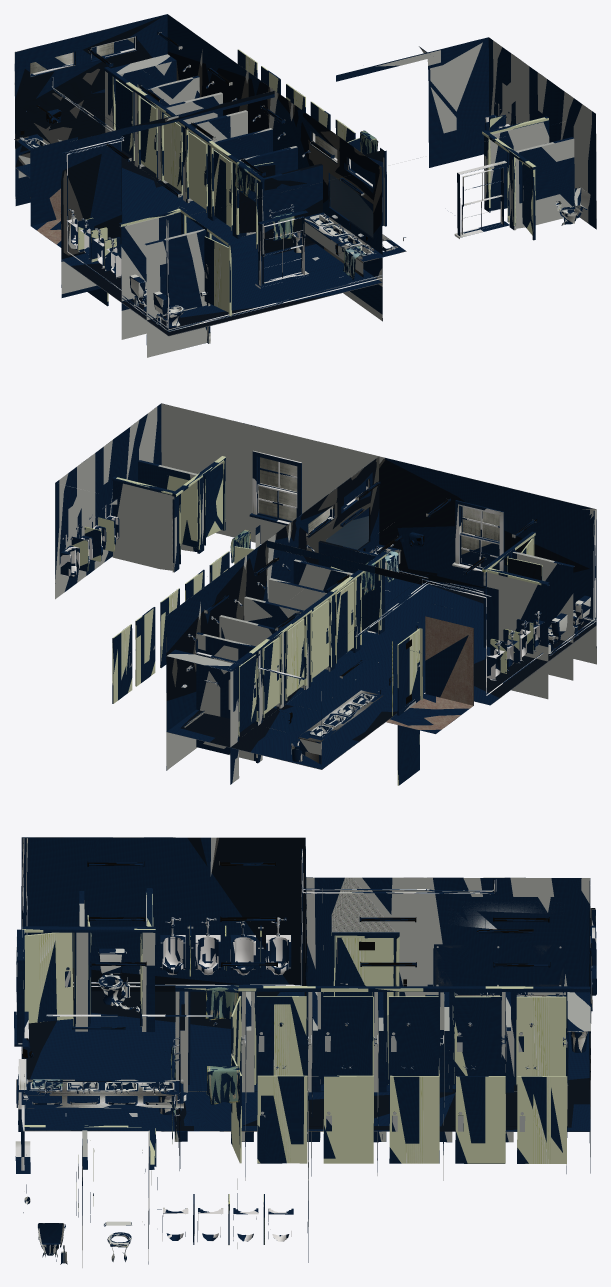
The picture shows the model from 3 angles, top to bottom: view 1: azimuth 30°, elevation 25°; view 2: azimuth 150°, elevation 25°; view 3: azimuth 270°, elevation 25°; orthographic projection. The views are drawn at different scales.
Visible parts, largest first — view 1: BackSide_0 (×2), FrontSide_12, FrontSide_6, FrontSide_11, FrontSide_5, FrontSide_1, FrontSide_0, FrontSide_10, FrontSide_16, FrontSide_14, FrontSide_9, FrontSide_15 (+1 smaller); view 2: BackSide_0 (×2), FrontSide_12, FrontSide_6, FrontSide_11, FrontSide_5, FrontSide_15, FrontSide_9, FrontSide_16, FrontSide_1, FrontSide_0, FrontSide_4, FrontSide_10 (+1 smaller); view 3: BackSide_0 (×2), FrontSide_11, FrontSide_12, FrontSide_6, FrontSide_9, FrontSide_5, FrontSide_1, FrontSide_16, FrontSide_14, FrontSide_10, FrontSide_4.
Part boxes in pixels (x1,y1,x2,y2): BackSide_0 (×2): [14, 14, 596, 344]; FrontSide_12: [14, 19, 596, 357]; FrontSide_6: [15, 16, 383, 335]; FrontSide_11: [78, 49, 548, 315]; FrontSide_5: [30, 36, 509, 331]; FrontSide_1: [25, 138, 590, 326]; FrontSide_0: [330, 174, 372, 236]; FrontSide_10: [235, 131, 377, 278]; FrontSide_16: [20, 32, 403, 254]; FrontSide_14: [20, 64, 523, 294]; FrontSide_9: [67, 116, 509, 278]; FrontSide_15: [30, 188, 61, 244]; BackSide_0 (×2): [55, 403, 596, 785]; FrontSide_12: [55, 403, 596, 782]; FrontSide_6: [166, 457, 595, 769]; FrontSide_11: [72, 456, 542, 785]; FrontSide_5: [195, 450, 596, 695]; FrontSide_15: [386, 616, 473, 734]; FrontSide_9: [60, 515, 540, 680]; FrontSide_16: [204, 482, 536, 723]; FrontSide_1: [310, 547, 590, 736]; FrontSide_0: [326, 516, 368, 549]; FrontSide_4: [298, 549, 401, 764]; FrontSide_10: [230, 529, 398, 594]; BackSide_0 (×2): [14, 837, 596, 1264]; FrontSide_11: [22, 893, 567, 1245]; FrontSide_12: [22, 837, 591, 1267]; FrontSide_6: [21, 837, 595, 1155]; FrontSide_9: [160, 935, 291, 1241]; FrontSide_5: [14, 838, 596, 1170]; FrontSide_1: [24, 948, 555, 1264]; FrontSide_16: [22, 861, 550, 1093]; FrontSide_14: [23, 917, 567, 1206]; FrontSide_10: [32, 985, 239, 1143]; FrontSide_4: [16, 995, 592, 1108].
Bounding box in the file's own units: 141 × 58.3 × 123.
18 materials, 18 textured.
